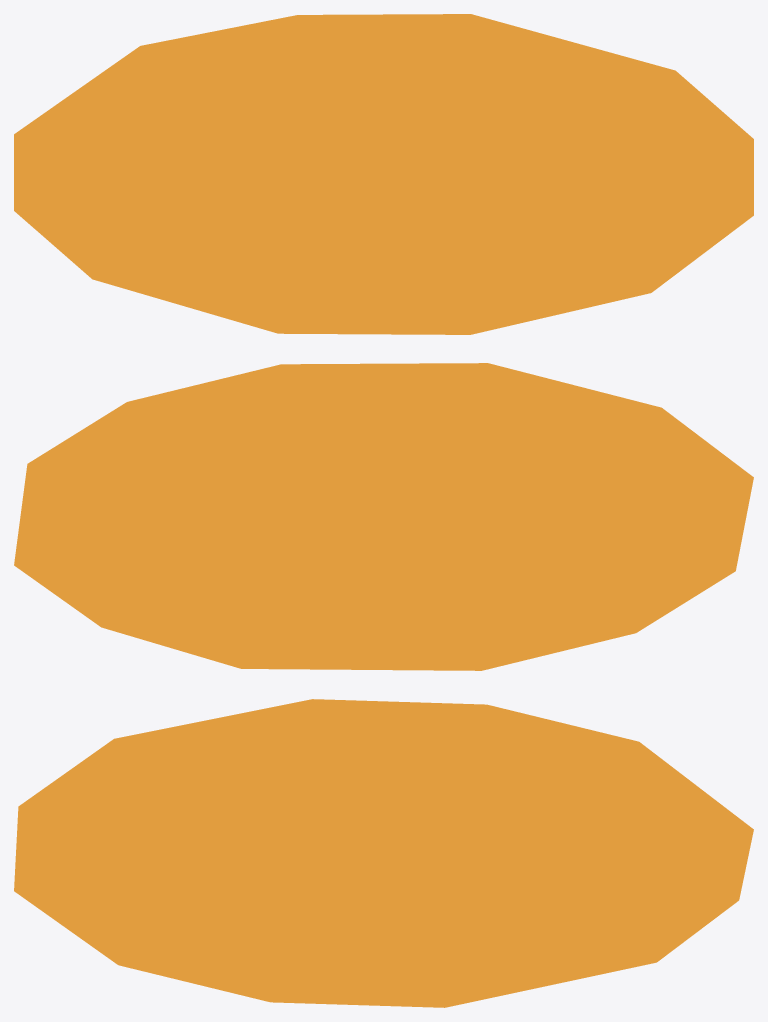
Rendered from Prop_PastryTeaTable_Tea.glb.
3 views of the same model, one above another, from view 1: azimuth 30°, elevation 25°; view 2: azimuth 150°, elevation 25°; view 3: azimuth 270°, elevation 25° (orthographic). The views are drawn at different scales.
Visible parts, largest first — view 1: Prop_PastryTeaTable_Tea; view 2: Prop_PastryTeaTable_Tea; view 3: Prop_PastryTeaTable_Tea.
Part boxes in pixels (left/top/right/bottom): Prop_PastryTeaTable_Tea: left=14, top=14, right=753, bottom=334; Prop_PastryTeaTable_Tea: left=14, top=363, right=753, bottom=670; Prop_PastryTeaTable_Tea: left=14, top=699, right=753, bottom=1007.
Bounding box in the file's own units: 1.09 × 3.73e-07 × 1.11.
1 material, 1 textured.
